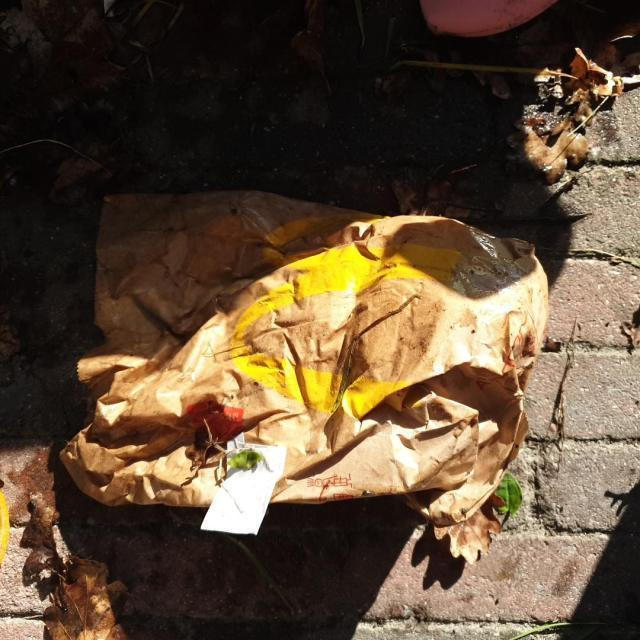Paper: (58, 186, 550, 527), (202, 444, 288, 532)
